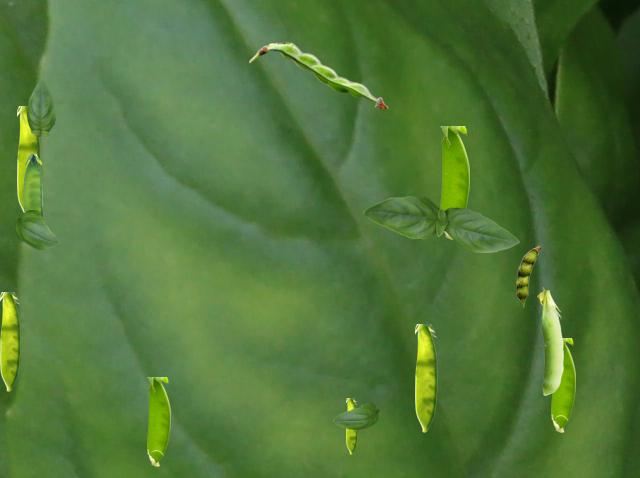pea: (249, 42, 387, 107), (440, 126, 468, 238), (537, 287, 562, 394), (17, 106, 39, 212), (415, 324, 436, 431), (551, 338, 574, 431), (147, 377, 169, 465), (0, 292, 19, 390), (516, 246, 540, 306), (23, 154, 41, 214), (346, 398, 356, 453)
